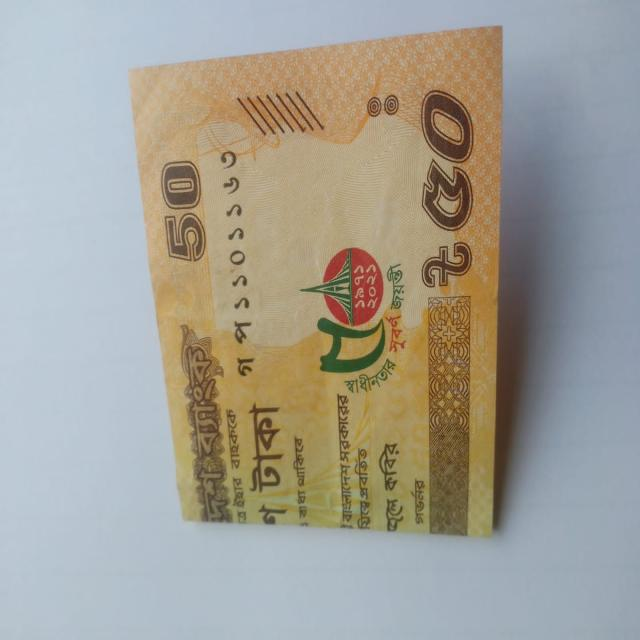Taka: (126, 44, 503, 544)
